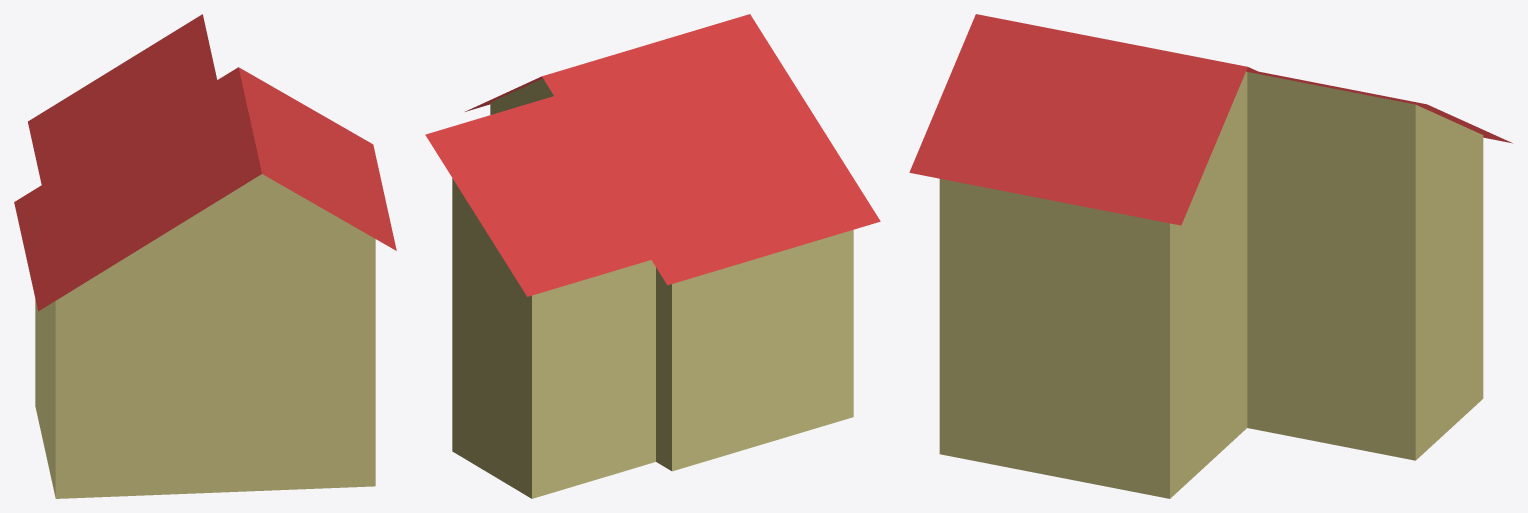
3 renders of one model, left to right at view 1: azimuth 30°, elevation 25°; view 2: azimuth 150°, elevation 25°; view 3: azimuth 270°, elevation 25°, orthographic. The views are drawn at different scales.
Bounding box in the file's own units: 11.12 × 13.15 × 9.21.
